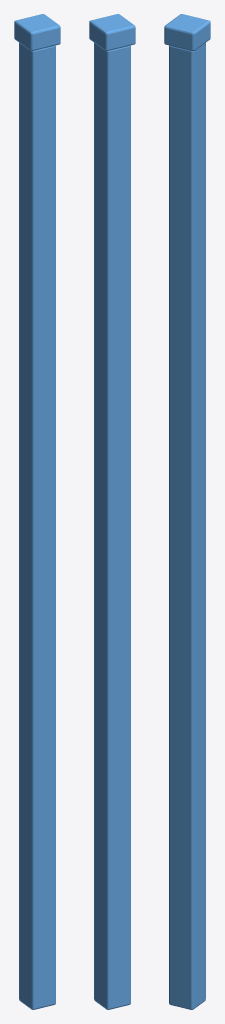
The model's file is PGK_Post_Square_3m_LOD0.fbx.
The picture shows the model from 3 angles, left to right: view 1: azimuth 30°, elevation 25°; view 2: azimuth 210°, elevation 25°; view 3: azimuth 330°, elevation 25°; orthographic projection.
Visible parts, largest first — view 1: Post, Cap; view 2: Post, Cap; view 3: Post, Cap.
Boxes of the visible parts, box(x1,y1,x2,y2) form: Post: box(19, 43, 55, 1009); Cap: box(14, 14, 60, 50); Post: box(94, 43, 130, 1009); Cap: box(89, 14, 135, 50); Post: box(169, 43, 205, 1009); Cap: box(164, 14, 210, 50).
Size of the model in its own units: 0.1 by 3.06 by 0.1.
